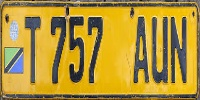T: (23, 14, 44, 87)
